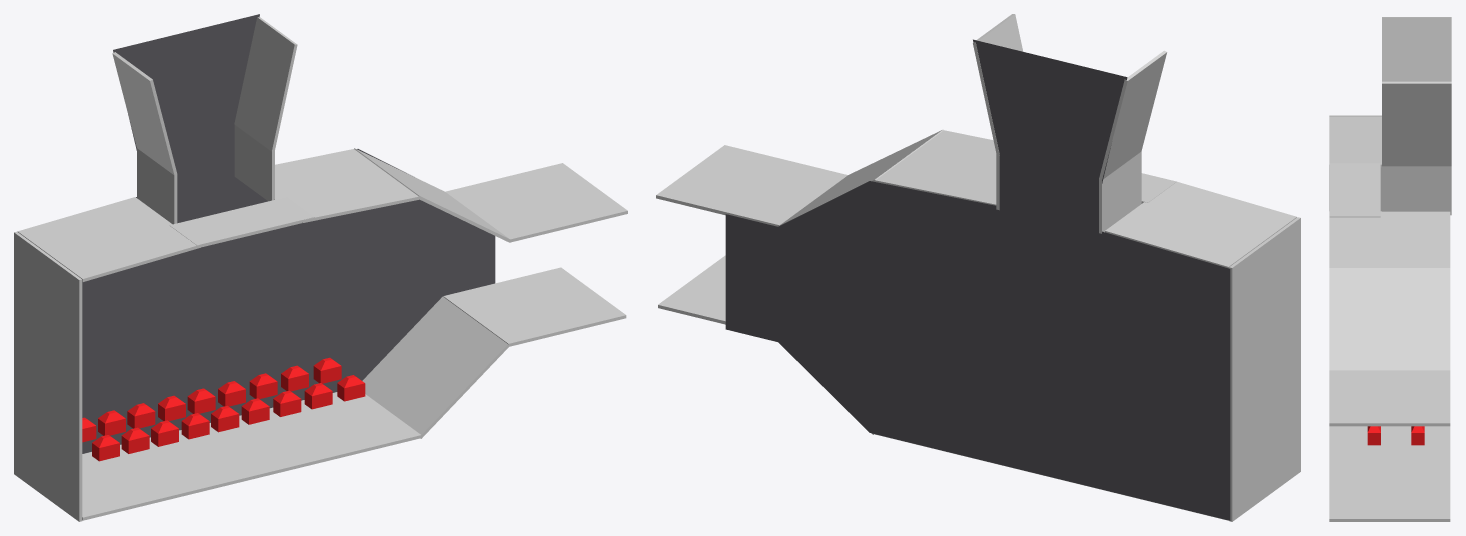
The model's file is furnace.gltf.
3 renders of one model, left to right at view 1: azimuth 30°, elevation 25°; view 2: azimuth 150°, elevation 25°; view 3: azimuth 270°, elevation 25°, orthographic. The views are drawn at different scales.
Parts seen in each view (by area): view 1: Plane, Cube, Cube.004, Cube.013, Cube.005, Cube.002, Cube.008, Cube.007, Cube.003, Cube.012, Cube.001, Cube.011 (+3 smaller); view 2: Plane, Cube.004, Cube.002, Cube.007, Cube.003, Cube.011, Cube.008, Cube.009, Cube.006, Cube.012; view 3: Cube.006, Cube.007, Cube.008, Cube.003, Cube.012, Cube.011, Cube, Cube.010, Cube.001, Cube.002, Cube.013, Cube.004.
Boxes of the visible parts, x1,y1,x2,y2 form: Plane: [82, 14, 495, 453]; Cube: [82, 392, 421, 520]; Cube.004: [14, 231, 82, 521]; Cube.013: [82, 357, 365, 461]; Cube.005: [362, 296, 509, 438]; Cube.002: [17, 197, 200, 281]; Cube.008: [443, 267, 626, 346]; Cube.007: [445, 163, 627, 242]; Cube.003: [274, 149, 418, 222]; Cube.012: [234, 17, 297, 151]; Cube.001: [169, 197, 314, 247]; Cube.011: [112, 52, 177, 175]; Plane: [725, 39, 1230, 520]; Cube.004: [1229, 217, 1300, 521]; Cube.002: [1105, 181, 1296, 268]; Cube.007: [656, 145, 847, 226]; Cube.003: [873, 130, 996, 205]; Cube.011: [1099, 50, 1167, 180]; Cube.008: [658, 255, 725, 324]; Cube.009: [1099, 151, 1141, 233]; Cube.006: [779, 129, 943, 225]; Cube.012: [973, 14, 1023, 154]; Cube.006: [1329, 268, 1450, 370]; Cube.007: [1329, 370, 1450, 426]; Cube.008: [1329, 465, 1450, 521]; Cube.003: [1329, 211, 1450, 267]; Cube.012: [1382, 81, 1451, 166]; Cube.011: [1382, 17, 1451, 81]; Cube: [1329, 426, 1450, 465]; Cube.010: [1382, 166, 1451, 215]; Cube.001: [1329, 163, 1380, 217]; Cube.002: [1329, 117, 1381, 167]; Cube.013: [1367, 426, 1424, 445]; Cube.004: [1329, 115, 1381, 211].
Size of the model in its own units: 8.16 by 5.69 by 1.7.
